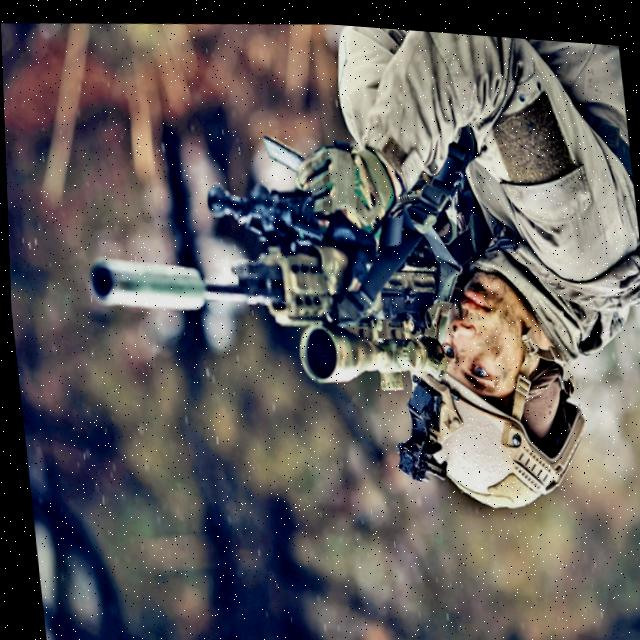firearm: (78, 172, 456, 411)
